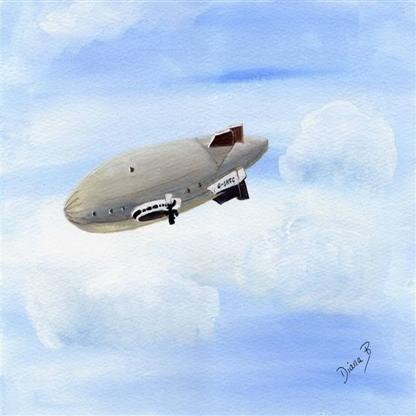Airship: (64, 124, 272, 233)
